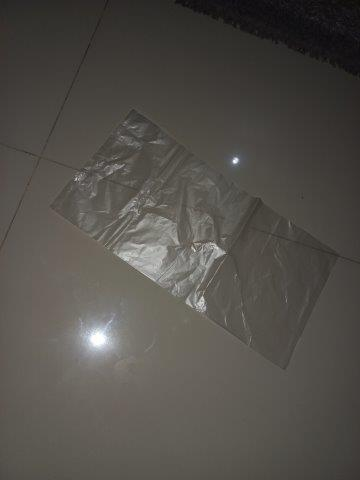plastik: (49, 110, 342, 370)
